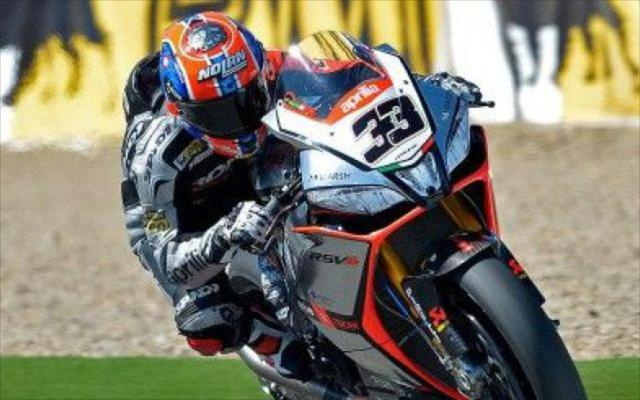helmet: (152, 18, 284, 138)
